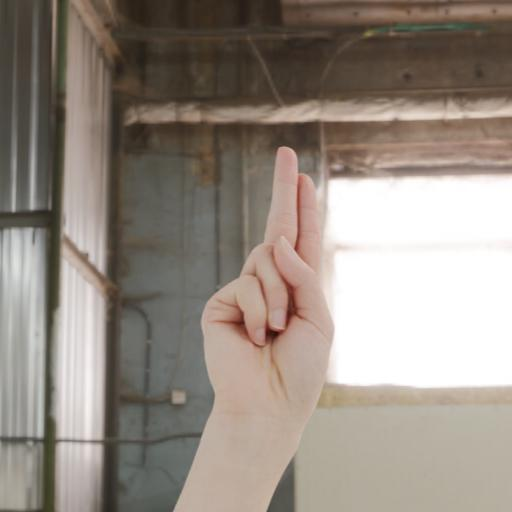U: (194, 143, 345, 440)
